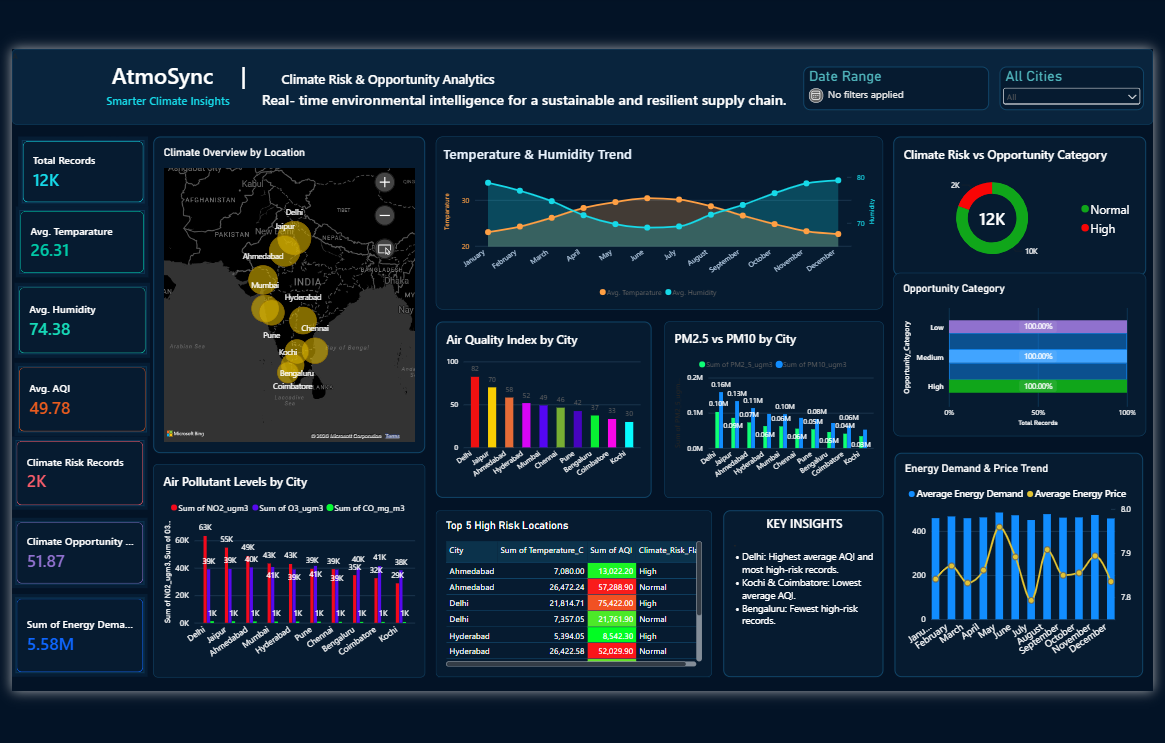

This screenshot's page, from the dashboard's own definition file:
{"tool":"powerbi","page":{"name":"Page 1","canvas":[1920,1080],"ordinal":0},"visuals":[{"type":"cardVisual","fields":{"Data":["clean_df.Total Records","clean_df.Total Records"]},"box":[10.7,146.6,218.1,118],"z":0},{"type":"cardVisual","fields":{"Data":["clean_df.Average Temperature"]},"box":[5.4,264.6,223.5,119.8],"z":1000},{"type":"cardVisual","fields":{"Data":["clean_df.Average Humidity"]},"box":[3.6,393.4,228.9,127],"z":2000},{"type":"cardVisual","fields":{"Data":["clean_df.Average AQI"]},"box":[3.6,527.5,228.9,123.4],"z":3000},{"type":"cardVisual","fields":{"Data":["clean_df.High Risk Records"]},"box":[0,652.6,228.9,123.4],"z":4000},{"type":"cardVisual","fields":{"Data":["clean_df.Average Opportunity Score"]},"box":[0,788.5,228.9,118],"z":5000},{"type":"cardVisual","fields":{"Data":["Sum(clean_df.Energy_Demand_MW)"]},"box":[0,917.3,228.9,139.5],"z":6000},{"type":"map","title":"Climate Overview by Location","fields":{"Category":["clean_df.City"],"Size":["Sum(clean_df.AQI)"],"X":["Avg(clean_df.Longitude)"],"Y":["Avg(clean_df.Latitude)"]},"box":[237.8,146.6,457.7,532.8],"z":8000},{"type":"lineChart","title":"Temperature & Humidity Trend","fields":{"Category":["clean_df.Date.Variation.Date Hierarchy.Month"],"Y":["clean_df.Average Temperature"],"Y2":["clean_df.Avg. Humidity"]},"box":[713.4,146.6,752.8,291.5],"z":9000},{"type":"clusteredColumnChart","title":"Air Quality Index by City","fields":{"Category":["clean_df.City"],"Y":["clean_df.Average AQI"]},"box":[713.4,457.7,363,296.8],"z":10000},{"type":"donutChart","title":"Climate Risk vs Opportunity Category","fields":{"Category":["clean_df.Climate_Risk_Flag"],"Y":["clean_df.Total Records"]},"box":[1482.3,146.6,425.6,234.2],"z":12000},{"type":"hundredPercentStackedBarChart","title":"Opportunity Category","fields":{"Category":["clean_df.Opportunity_Category"],"Y":["clean_df.Total Records"]},"box":[1482.3,375.5,425.6,275.4],"z":13000},{"type":"clusteredColumnChart","title":"PM2.5 vs PM10 by City","fields":{"Category":["clean_df.City"],"Y":["Sum(clean_df.PM2_5_ugm3)","Sum(clean_df.PM10_ugm3)"]},"box":[1097.9,457.7,369.2,296.8],"z":14000},{"type":"clusteredColumnChart","title":"Air Pollutant Levels by City","fields":{"Category":["clean_df.City"],"Y":["Sum(clean_df.NO2_ugm3)","Sum(clean_df.O3_ugm3)","Sum(clean_df.CO_mg_m3)"]},"box":[237.8,697.3,457.7,359.4],"z":15000},{"type":"lineClusteredColumnComboChart","title":"Energy Demand & Price Trend","fields":{"Category":["clean_df.Date.Variation.Date Hierarchy.Month"],"Y":["clean_df.Average Energy Demand"],"Y2":["clean_df.Average Energy Price"]},"box":[1485.9,679.5,418.4,377.3],"z":17000},{"type":"textbox","title":"KEY INSIGHTS","box":[1196.2,776,270,280.7],"z":18000},{"type":"textbox","box":[0,0,1920.4,127],"z":18001},{"type":"tableEx","title":"Top 5 High Risk Locations","fields":{"Values":["clean_df.City","Sum(clean_df.Temperature_C)","Sum(clean_df.AQI)","clean_df.Climate_Risk_Flag"]},"box":[713.4,776,464.9,280.7],"z":18002},{"type":"slicer","title":"Date Range","fields":{"Values":["clean_df.Date"]},"box":[1332.1,28.6,312.9,73.3],"z":18003},{"type":"slicer","fields":{"Values":["clean_df.City"]},"box":[1661.1,28.6,243.2,73.3],"z":18004}]}

Visuals, with their boxes on the page's 1920x1080 design canvas (x1, y1, x2, y2). These are canvas units, not pixel positions in the 1165x743 screenshot, which may show the page scaled, cropped or inside an application window:
cardVisual - clean_df.Total Records x clean_df.Total Records: <region>11, 147, 229, 265</region>
cardVisual - clean_df.Average Temperature: <region>5, 265, 229, 384</region>
cardVisual - clean_df.Average Humidity: <region>4, 393, 232, 520</region>
cardVisual - clean_df.Average AQI: <region>4, 528, 232, 651</region>
cardVisual - clean_df.High Risk Records: <region>0, 653, 229, 776</region>
cardVisual - clean_df.Average Opportunity Score: <region>0, 788, 229, 906</region>
cardVisual - Sum(clean_df.Energy_Demand_MW): <region>0, 917, 229, 1057</region>
"Climate Overview by Location" map: <region>238, 147, 696, 679</region>
"Temperature & Humidity Trend" lineChart: <region>713, 147, 1466, 438</region>
"Air Quality Index by City" clusteredColumnChart: <region>713, 458, 1076, 754</region>
"Climate Risk vs Opportunity Category" donutChart: <region>1482, 147, 1908, 381</region>
"Opportunity Category" hundredPercentStackedBarChart: <region>1482, 376, 1908, 651</region>
"PM2.5 vs PM10 by City" clusteredColumnChart: <region>1098, 458, 1467, 754</region>
"Air Pollutant Levels by City" clusteredColumnChart: <region>238, 697, 696, 1057</region>
"Energy Demand & Price Trend" lineClusteredColumnComboChart: <region>1486, 680, 1904, 1057</region>
"KEY INSIGHTS" textbox: <region>1196, 776, 1466, 1057</region>
textbox: <region>0, 0, 1920, 127</region>
"Top 5 High Risk Locations" tableEx: <region>713, 776, 1178, 1057</region>
"Date Range" slicer: <region>1332, 29, 1645, 102</region>
slicer - clean_df.City: <region>1661, 29, 1904, 102</region>
